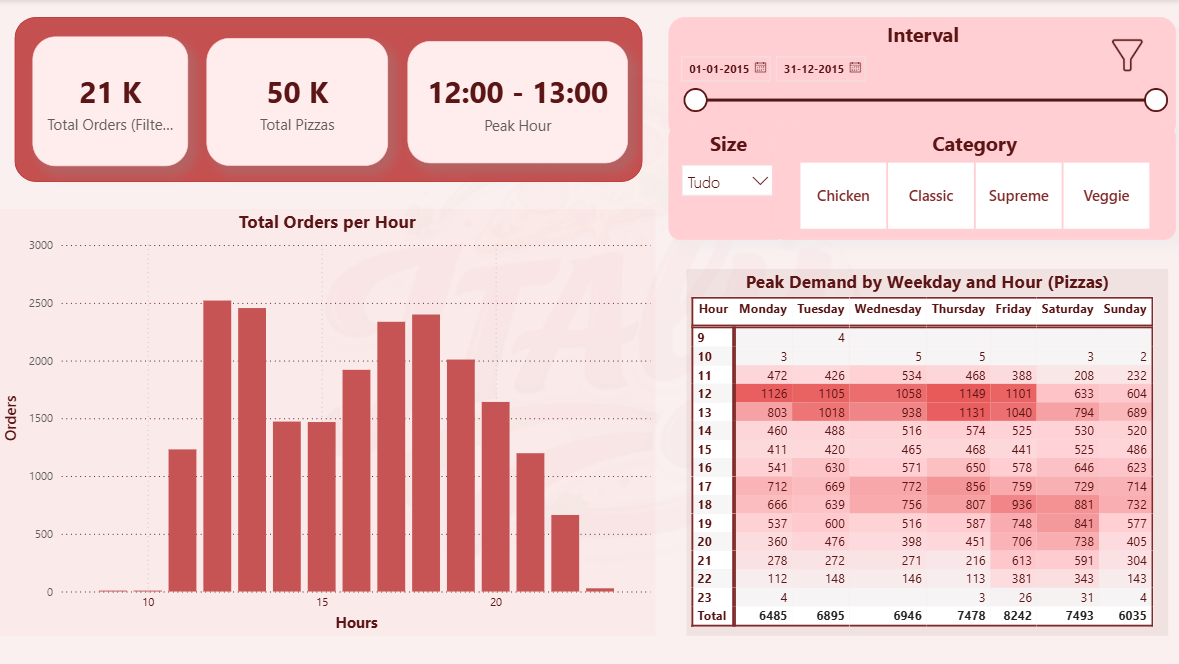

What the dashboard file says about the page in this screenshot:
{"tool":"powerbi","page":{"name":"Page 2 - Peak Demand Analysis","canvas":[1280,720],"ordinal":1},"visuals":[{"type":"image","box":[1.7,0,1278.3,719.7],"z":0},{"type":"shape","box":[0,0,1280,719.7],"z":1000},{"type":"shape","box":[18,20,678,178],"z":2000},{"type":"pivotTable","title":"Peak Demand by Weekday and Hour (Pizzas)","fields":{"Rows":["orders.Hour"],"Values":["Medidas.Total Pizzas"],"Columns":["orders.Day of Week"]},"box":[744,292,520,396],"z":3000},{"type":"card","fields":{"Values":["Medidas.Total Orders"]},"box":[37.3,40,168,140],"z":4000},{"type":"card","fields":{"Values":["Medidas.Total Pizzas"]},"box":[225.3,42,196,138],"z":5000},{"type":"card","fields":{"Values":["Medidas.Peak Hour"]},"box":[442,46,238,132],"z":6000},{"type":"columnChart","title":"Total Orders per Hour","fields":{"Category":["orders.Hour"],"Y":["Medidas.Total Orders"]},"box":[1.7,226.2,707.7,460.9],"z":7000},{"type":"slicer","title":"Interval","fields":{"Values":["orders.date"]},"box":[724,20,548,132],"z":8000},{"type":"image","box":[1172,40,92,42],"z":9000},{"type":"slicer","title":"Size","fields":{"Values":["pizzas.size"]},"box":[724,136,128,124],"z":10000},{"type":"slicer","title":"Category","fields":{"Values":["pizza_types.Category"]},"box":[836,136,436,124],"z":11000}]}

Visuals, with their boxes in screenshot pixels (x1, y1, x2, y2), scaled from the page's 1280x720 canvas onto the 1179x664 screenshot:
image: <box>2,0,1178,663</box>
shape: <box>0,0,1178,663</box>
shape: <box>17,18,641,183</box>
"Peak Demand by Weekday and Hour (Pizzas)" pivotTable: <box>685,269,1164,634</box>
card - Medidas.Total Orders: <box>34,37,189,166</box>
card - Medidas.Total Pizzas: <box>208,39,388,166</box>
card - Medidas.Peak Hour: <box>407,42,626,164</box>
"Total Orders per Hour" columnChart: <box>2,209,653,634</box>
"Interval" slicer: <box>667,18,1172,140</box>
image: <box>1080,37,1164,76</box>
"Size" slicer: <box>667,125,785,240</box>
"Category" slicer: <box>770,125,1172,240</box>
